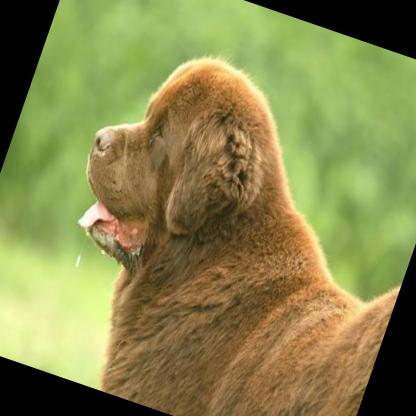Newfoundland: (11, 14, 416, 416)
